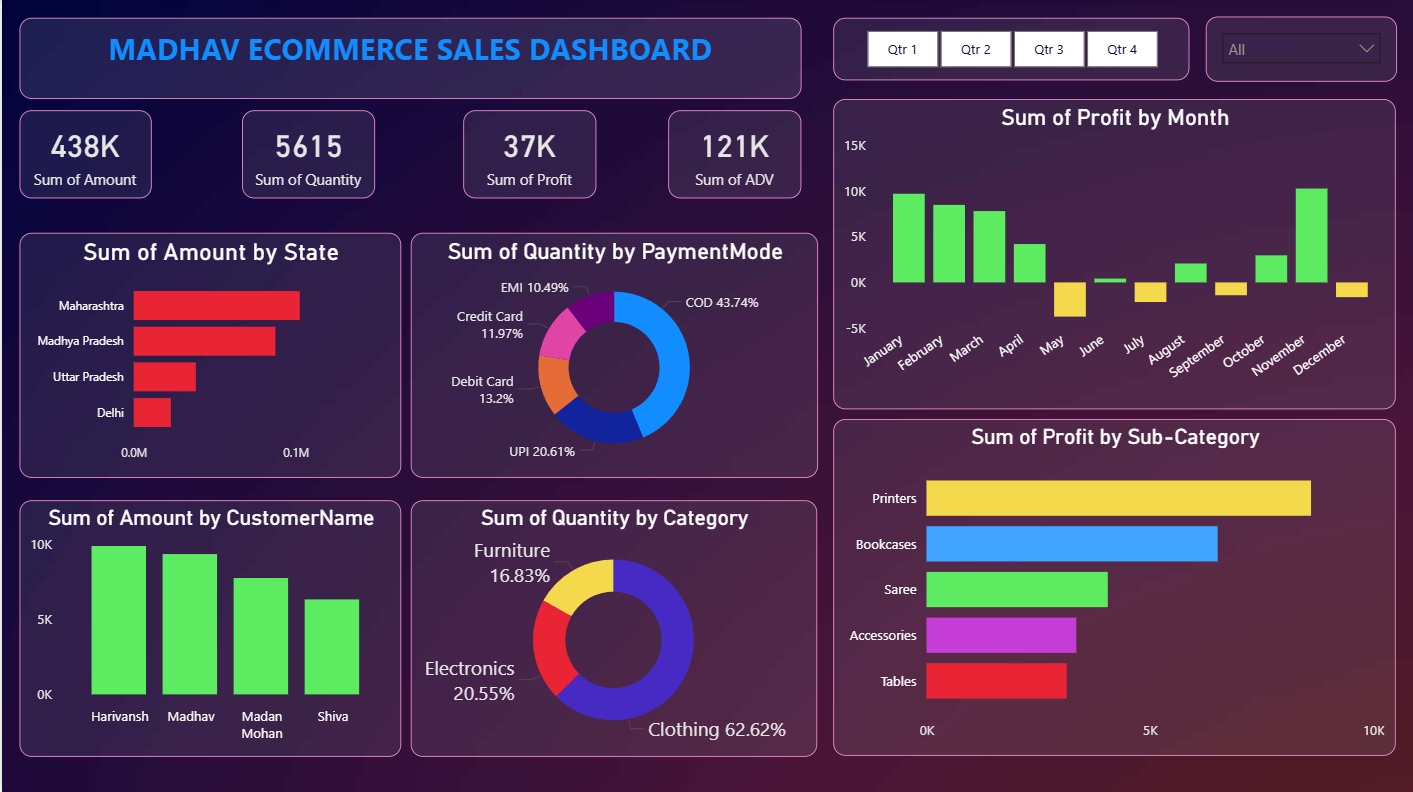

The dashboard page shown, as its layout file describes it:
{"tool":"powerbi","page":{"name":"Page 1","canvas":[1280,720],"ordinal":0},"visuals":[{"type":"textbox","box":[16.3,17.4,709.3,73.3],"z":0},{"type":"columnChart","fields":{"Y":["Details.Profit"],"Category":["Orders.Order Date.Variation.Date Hierarchy.Month"]},"box":[754.7,90.7,510.5,281.4],"z":1000},{"type":"barChart","fields":{"Category":["Details.Sub-Category"],"Y":["Details.Profit"]},"box":[754.7,381.4,510.5,305.8],"z":2000},{"type":"donutChart","fields":{"Category":["Details.Category"],"Y":["Details.Quantity"]},"box":[370.9,454.7,368.6,232.6],"z":3000},{"type":"donutChart","fields":{"Y":["Details.Quantity"],"Category":["Details.PaymentMode"]},"box":[370.9,211.6,369.8,222.1],"z":4000},{"type":"card","fields":{"Values":["Details.Quantity"]},"box":[217.4,101.2,120.9,80.2],"z":5000},{"type":"card","fields":{"Values":["Details.ADV"]},"box":[604.7,101.2,120.9,80.2],"z":6000},{"type":"card","fields":{"Values":["Details.Profit"]},"box":[418.6,101.2,120.9,80.2],"z":7000},{"type":"card","fields":{"Values":["Details.Amount"]},"box":[16.3,101.2,119.8,80.2],"z":8000},{"type":"barChart","fields":{"Category":["Orders.State"],"Y":["Details.Amount"]},"box":[16.3,211.6,346.5,222.1],"z":9000},{"type":"columnChart","fields":{"Category":["Orders.CustomerName"],"Y":["Details.Amount"]},"box":[16.3,454.7,346.5,232.6],"z":10000},{"type":"slicer","fields":{"Values":["Orders.Order Date.Variation.Date Hierarchy.Quarter"]},"box":[754.7,17.4,323.3,57],"z":12000},{"type":"slicer","fields":{"Values":["Orders.State"]},"box":[1091.9,16.3,173.3,59.3],"z":12001}]}

Visuals, with their boxes in screenshot pixels (x1, y1, x2, y2), scaled from the page's 1280x720 canvas onto the 1413x792 screenshot:
textbox: [18, 19, 801, 100]
columnChart - Details.Profit x Orders.Order Date.Variation.Date Hierarchy.Month: [833, 100, 1397, 409]
barChart - Details.Sub-Category x Details.Profit: [833, 420, 1397, 756]
donutChart - Details.Category x Details.Quantity: [409, 500, 816, 756]
donutChart - Details.Quantity x Details.PaymentMode: [409, 233, 818, 477]
card - Details.Quantity: [240, 111, 373, 200]
card - Details.ADV: [668, 111, 801, 200]
card - Details.Profit: [462, 111, 596, 200]
card - Details.Amount: [18, 111, 150, 200]
barChart - Orders.State x Details.Amount: [18, 233, 400, 477]
columnChart - Orders.CustomerName x Details.Amount: [18, 500, 400, 756]
slicer - Orders.Order Date.Variation.Date Hierarchy.Quarter: [833, 19, 1190, 82]
slicer - Orders.State: [1205, 18, 1397, 83]
